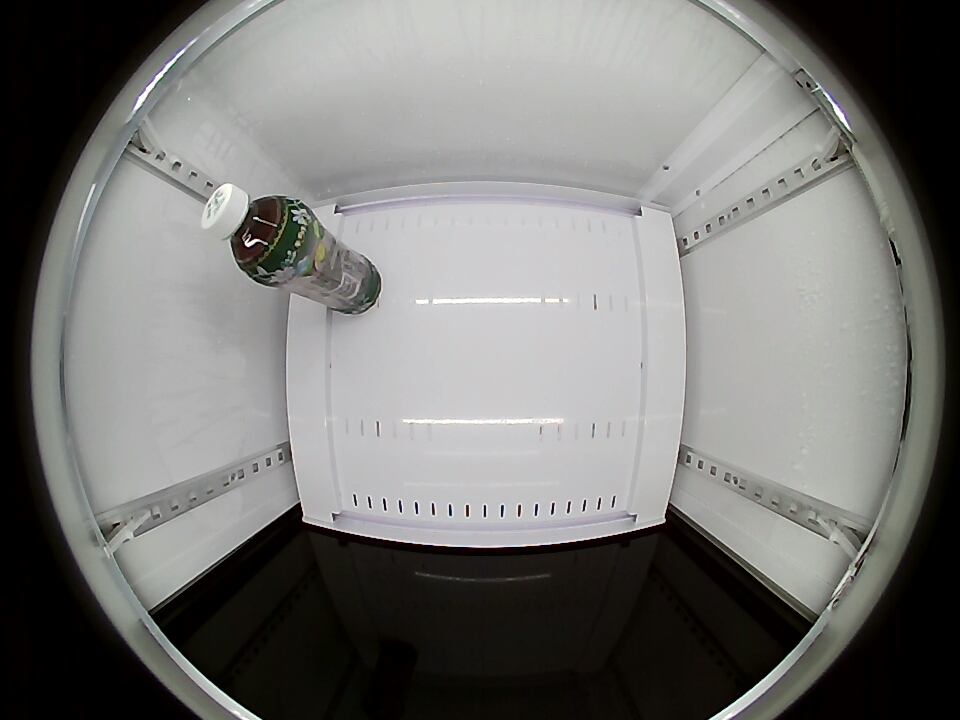moliqingcha: (200, 184, 306, 280)
